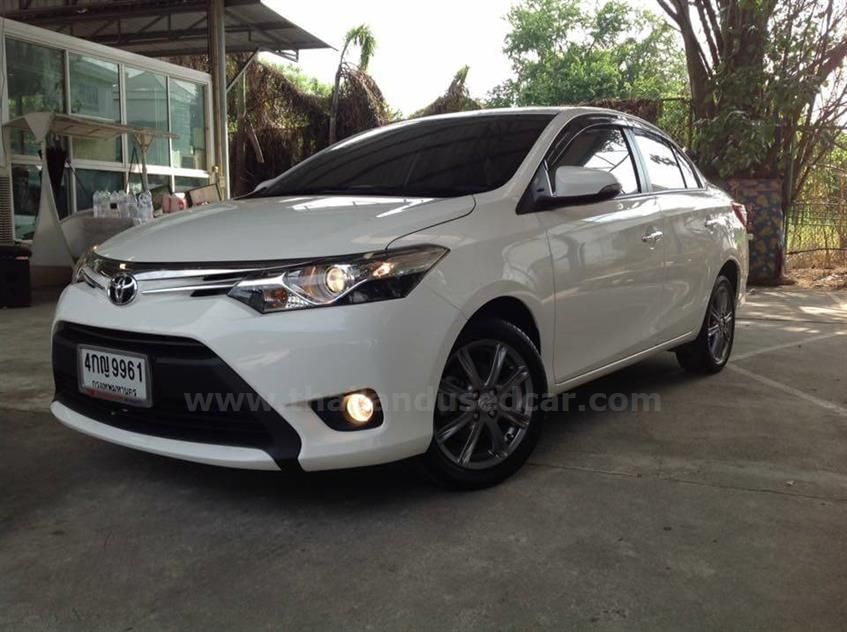sedan: (47, 102, 752, 493)
